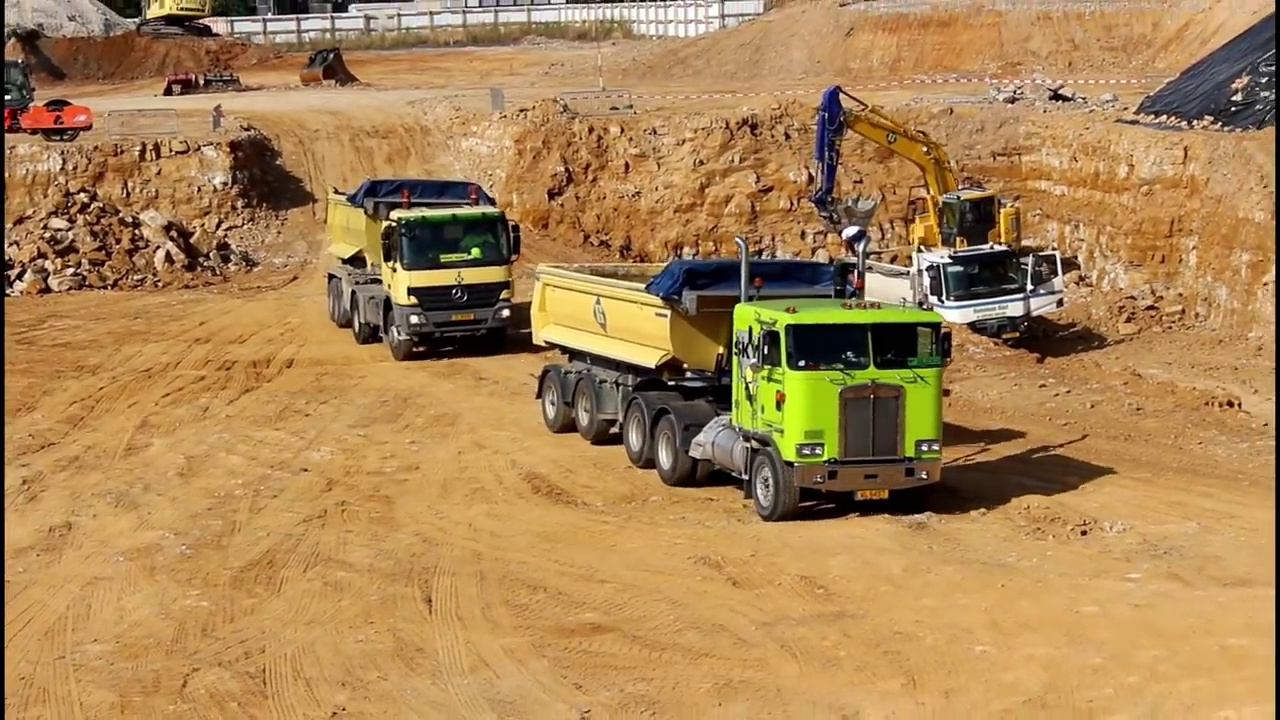compactor: (2, 57, 98, 141)
excavator: (800, 81, 1058, 312), (135, 1, 217, 44)
truck: (530, 233, 957, 524), (322, 175, 524, 362), (850, 236, 1067, 347)
worker: (837, 221, 871, 265)
